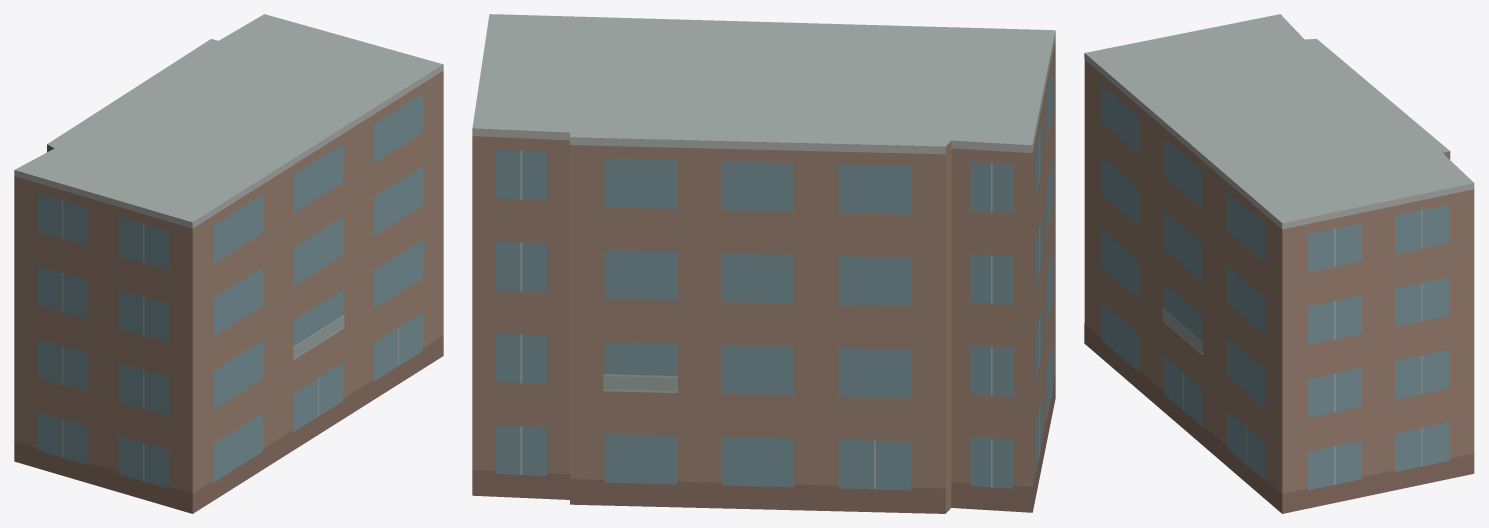
The model's file is survey-upis-32913543.glb.
3 views of the same model, side by side, from view 1: azimuth 30°, elevation 25°; view 2: azimuth 150°, elevation 25°; view 3: azimuth 270°, elevation 25° (orthographic). The views are drawn at different scales.
Parts seen in each view (by area): view 1: survey-upis-32913543.tmp; view 2: survey-upis-32913543.tmp; view 3: survey-upis-32913543.tmp.
Boxes of the visible parts, x1,y1,x2,y2 form: survey-upis-32913543.tmp: [14, 14, 443, 513]; survey-upis-32913543.tmp: [472, 14, 1055, 513]; survey-upis-32913543.tmp: [1084, 14, 1474, 513].
Bounding box in the file's own units: 17.77 × 11.5 × 13.99.
